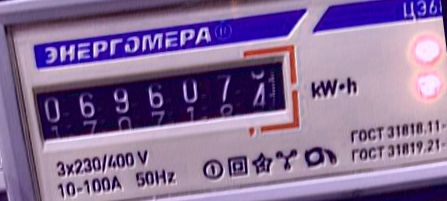0: (178, 74, 201, 106), (41, 94, 62, 124)
4: (249, 80, 268, 110)
6: (75, 88, 98, 119), (144, 80, 166, 111)
7: (214, 71, 235, 103)
9: (110, 85, 131, 115)
screen: (16, 37, 309, 160)
